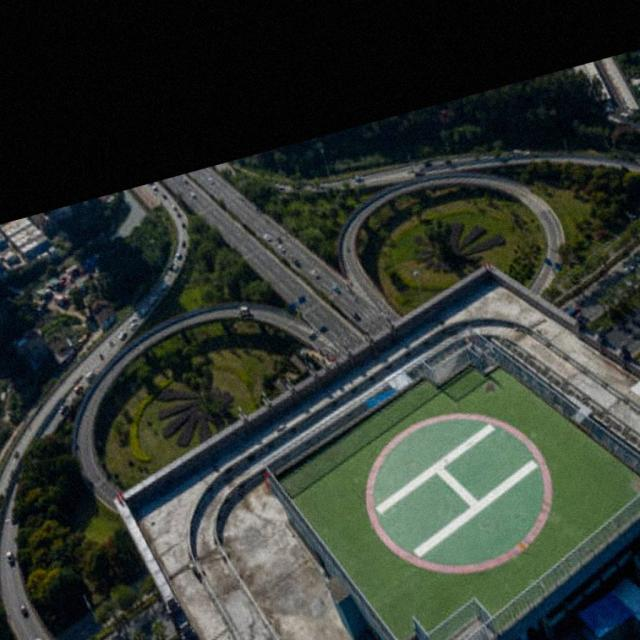helipad: (362, 406, 554, 576)
